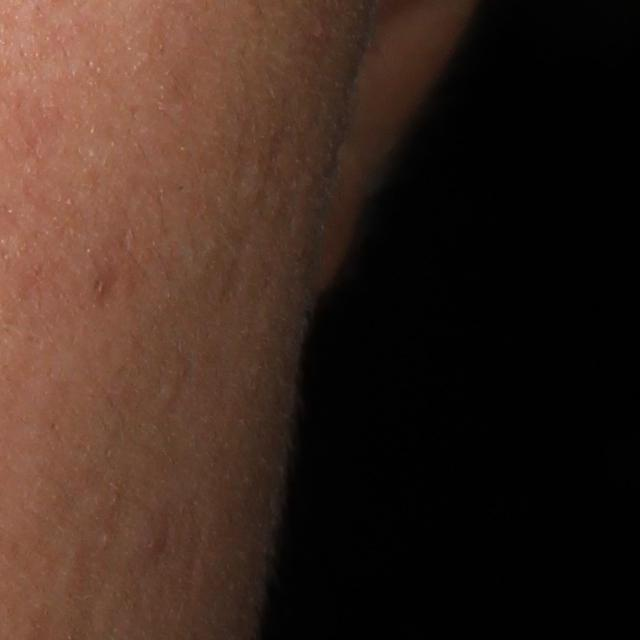comedo: (101, 532, 111, 548)
papule: (139, 528, 168, 553)
